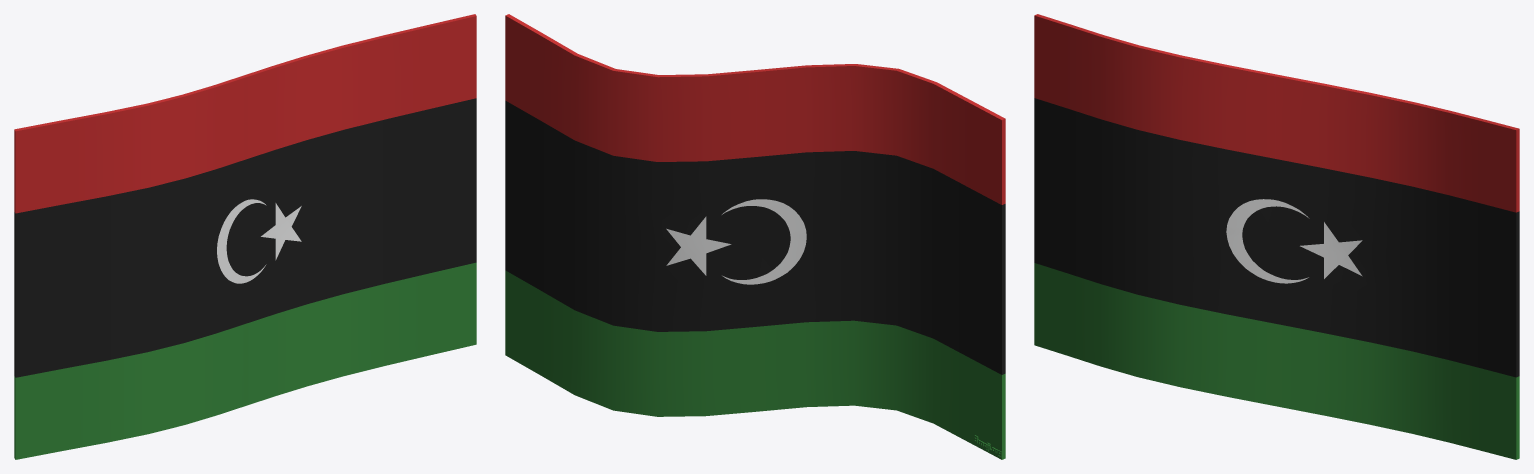
File: flag_libya.glb
The picture shows the model from 3 angles, left to right: view 1: azimuth 30°, elevation 25°; view 2: azimuth 150°, elevation 25°; view 3: azimuth 330°, elevation 25°; orthographic projection. The views are drawn at different scales.
Parts seen in each view (by area): view 1: flag_libya; view 2: flag_libya; view 3: flag_libya.
Boxes of the visible parts, left/top/right/bottom form: flag_libya: left=14, top=14, right=476, bottom=459; flag_libya: left=505, top=14, right=1005, bottom=459; flag_libya: left=1034, top=14, right=1519, bottom=459.
Bounding box in the file's own units: 2.18 × 1.58 × 0.3373.
Materials: 1 (1 with a texture image).
